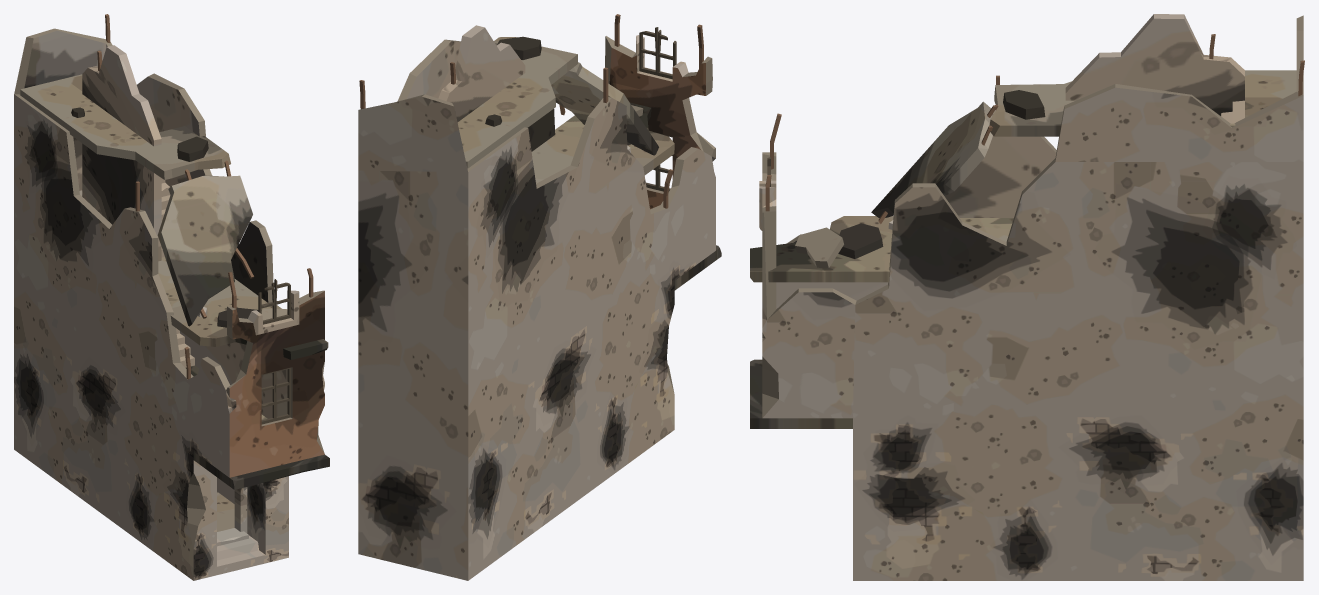
File: SM_Bld_Shop_02_Destroyed.glb
3 views of the same model, side by side, from view 1: azimuth 30°, elevation 25°; view 2: azimuth 150°, elevation 25°; view 3: azimuth 270°, elevation 25° (orthographic). The views are drawn at different scales.
Visible parts, largest first — view 1: SM_Bld_Shop_02_Destroyed; view 2: SM_Bld_Shop_02_Destroyed; view 3: SM_Bld_Shop_02_Destroyed.
Part boxes in pixels (box(x1,y1,x2,y2)): SM_Bld_Shop_02_Destroyed: box(14, 14, 329, 580); SM_Bld_Shop_02_Destroyed: box(358, 14, 721, 580); SM_Bld_Shop_02_Destroyed: box(750, 14, 1304, 580).
Bounding box in the file's own units: 3.25 × 13.14 × 12.32.
1 material, 1 textured.
